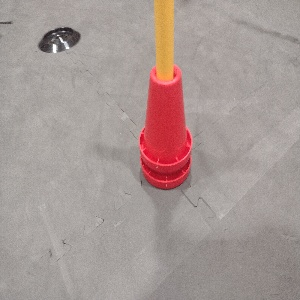Red_2: (137, 63, 191, 189)
